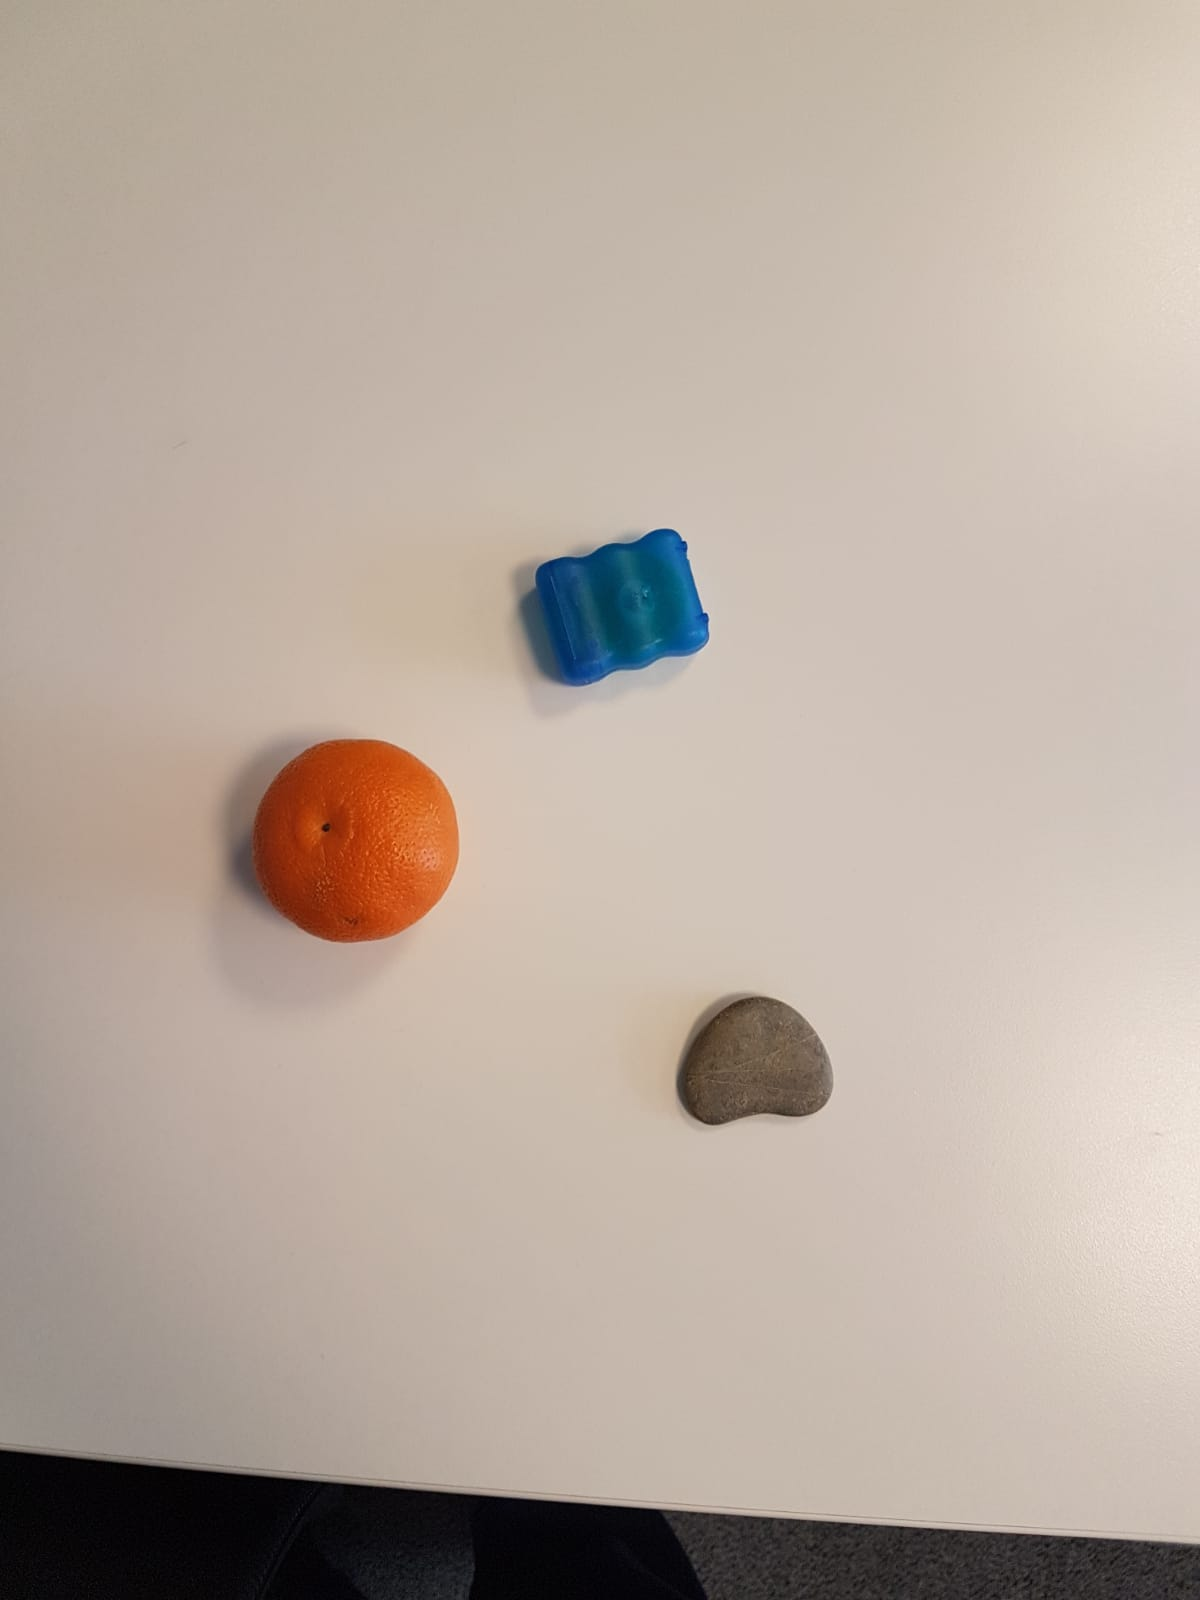Box: (524, 528, 715, 688)
Orange: (255, 737, 463, 945)
Stone: (681, 994, 836, 1133)
